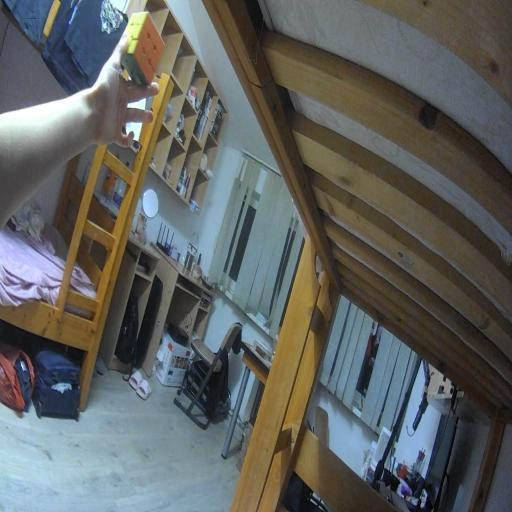Rubiks Cube: (120, 10, 163, 92)
